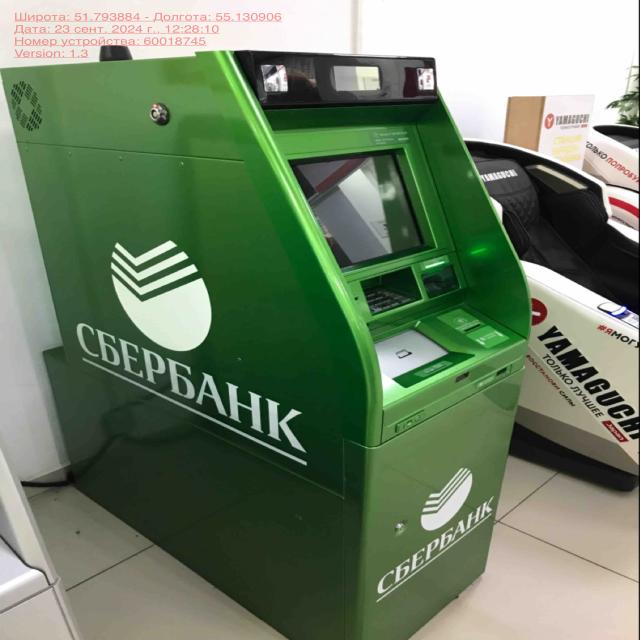bank: (0, 50, 547, 640)
